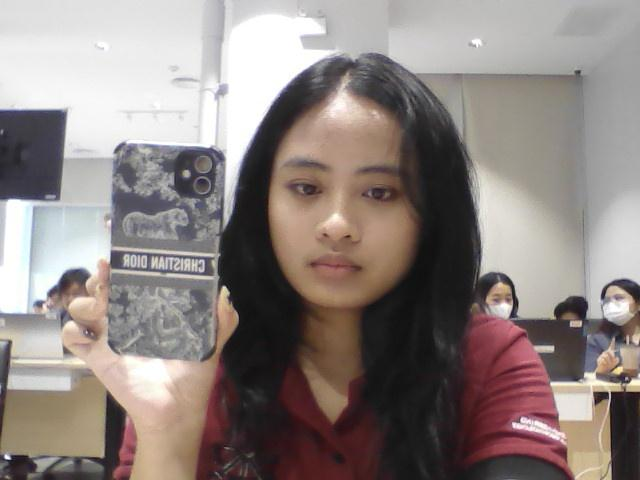iphone: (109, 141, 219, 353)
